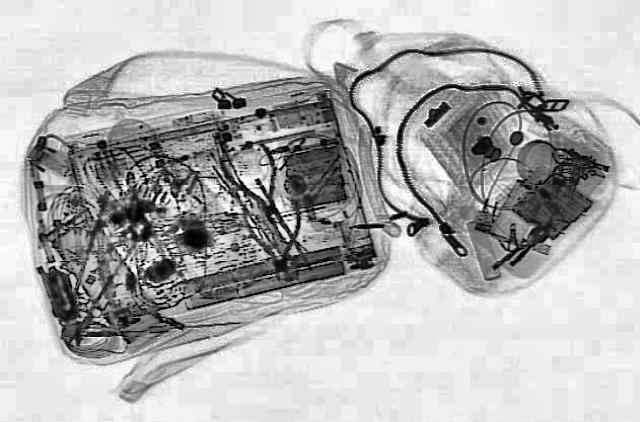Pliers: (210, 142, 302, 224), (236, 198, 314, 282)
